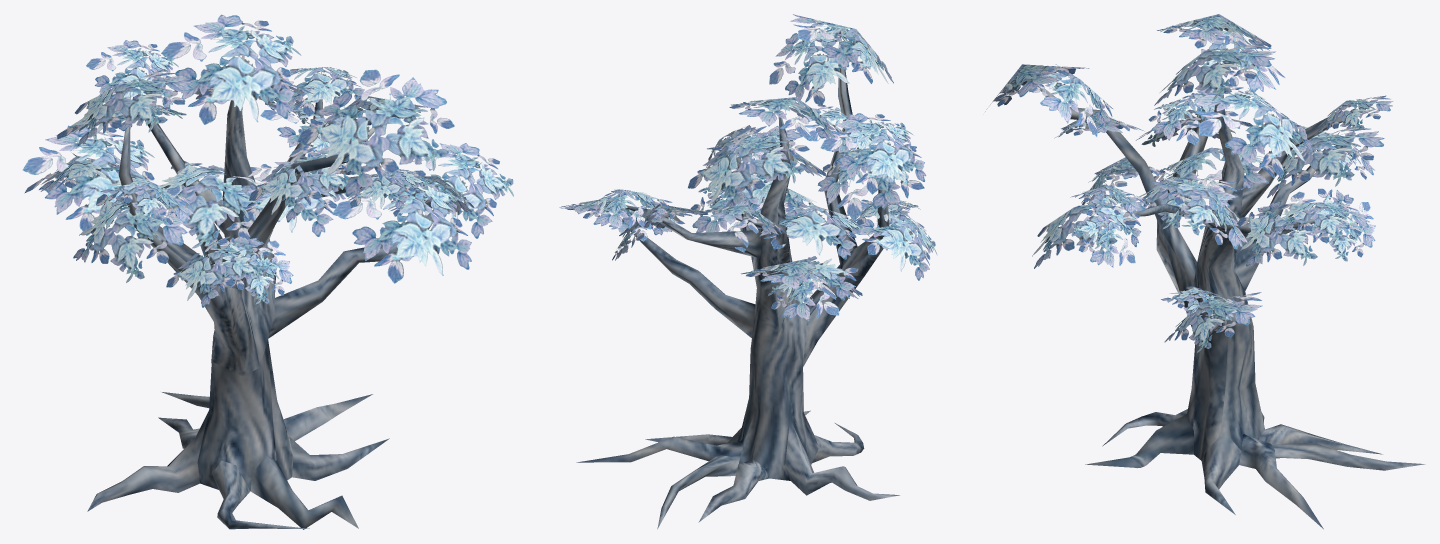
Rendered from tree14.fbx.
3 renders of one model, left to right at view 1: azimuth 30°, elevation 25°; view 2: azimuth 150°, elevation 25°; view 3: azimuth 270°, elevation 25°, orthographic. The views are drawn at different scales.
Visible parts, largest first — view 1: tree14; view 2: tree14; view 3: tree14.
Boxes of the visible parts, x1,y1,x2,y2 form: tree14: (22, 14, 513, 529); tree14: (559, 14, 937, 529); tree14: (985, 14, 1425, 529).
Size of the model in its own units: 1621 by 1557 by 1507.
